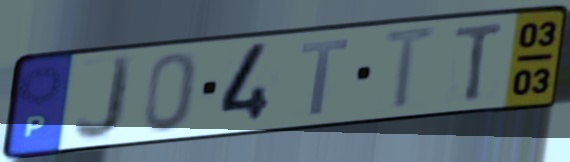0: (139, 48, 202, 136)
4: (216, 40, 280, 129)
J: (70, 53, 138, 144)
T: (379, 23, 445, 115), (451, 18, 509, 105), (297, 36, 353, 119)
